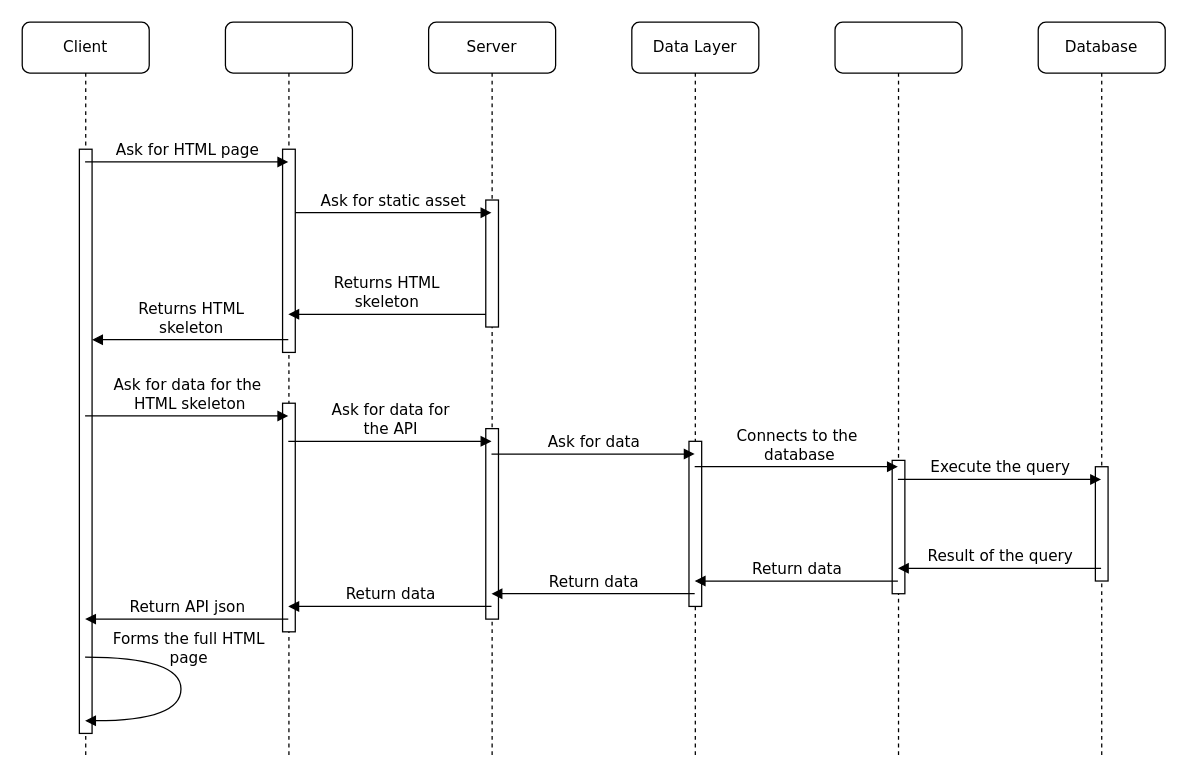
Some shapes in this 1187 by 781 pixel diagram are drawn without their labels. The box of each missing label's shape, as (x1, y1, x2, y2) in pixels:
API: (224, 21, 352, 759)
Knex.js: (834, 21, 962, 759)
